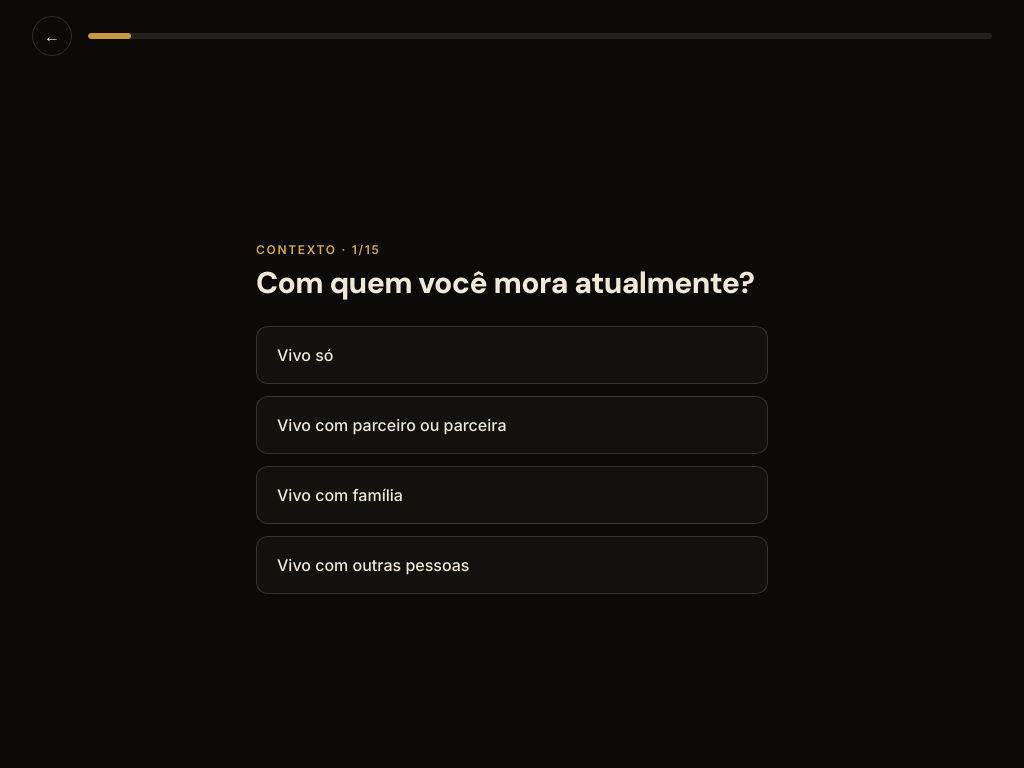
/quiz — fluxo navegável (estrutura de homologação) › responder a primeira pergunta avança para a segunda
Click the radio button labelled "Vivo só" at (305, 355), box x1=256 y1=326 x2=768 y2=384
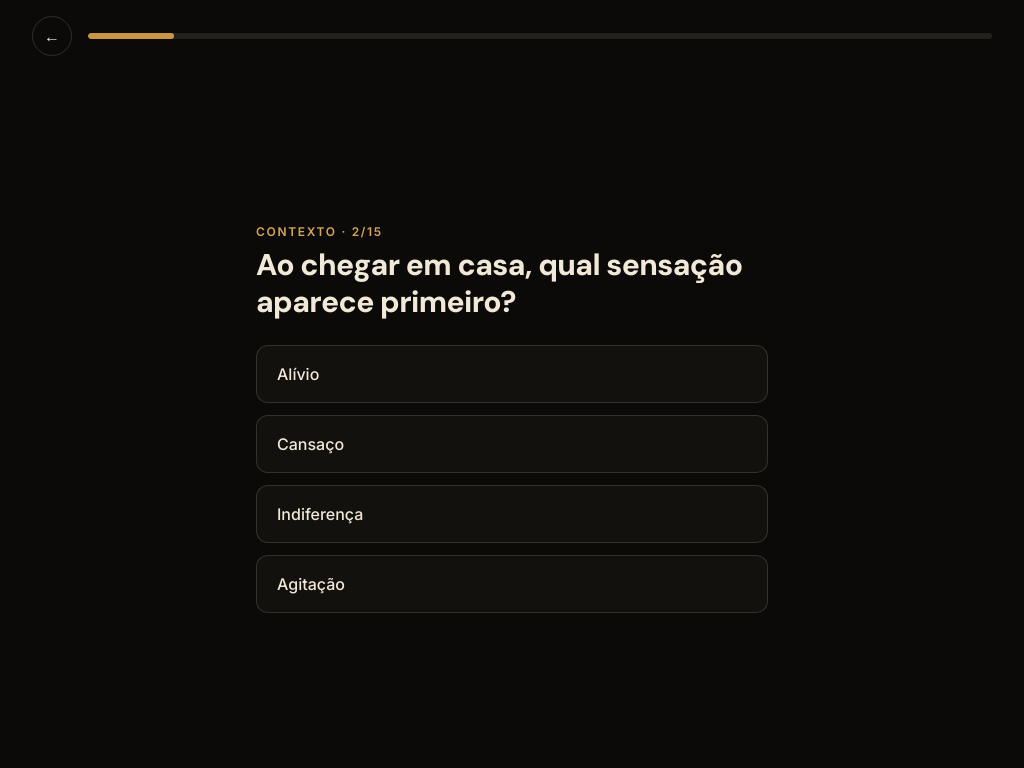
Check: the heading "Ao chegar em casa, qual sensação aparece primeiro?" is shown, box x1=256 y1=246 x2=768 y2=320
